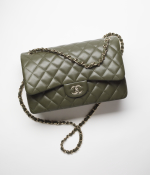channel: (18, 45, 129, 109), (62, 81, 89, 98)
